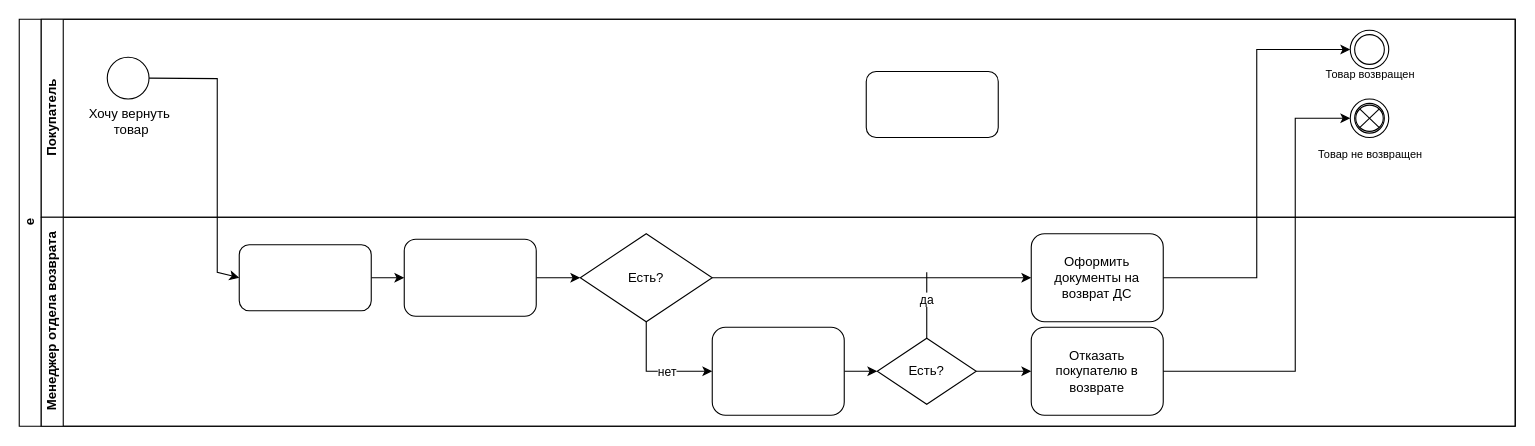
Image size: 1535x446. Some labels were removed from this diagram. The centre of each missing label's shape, as x and y in pixels:
"Вернуть товар на склад" goes at pixel 931 104.
"Применять товар к возврату" goes at pixel 304 277.
"Проверить в системе документы подтверждающие оплату товара" goes at pixel 777 370.
"Проверить у покупателя документы, подтверждающие оплату товара" goes at pixel 469 277.
